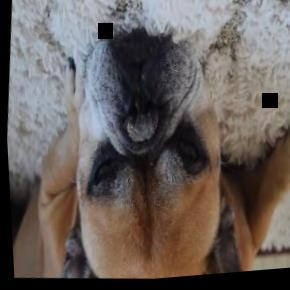keratosis: (120, 108, 164, 151)
